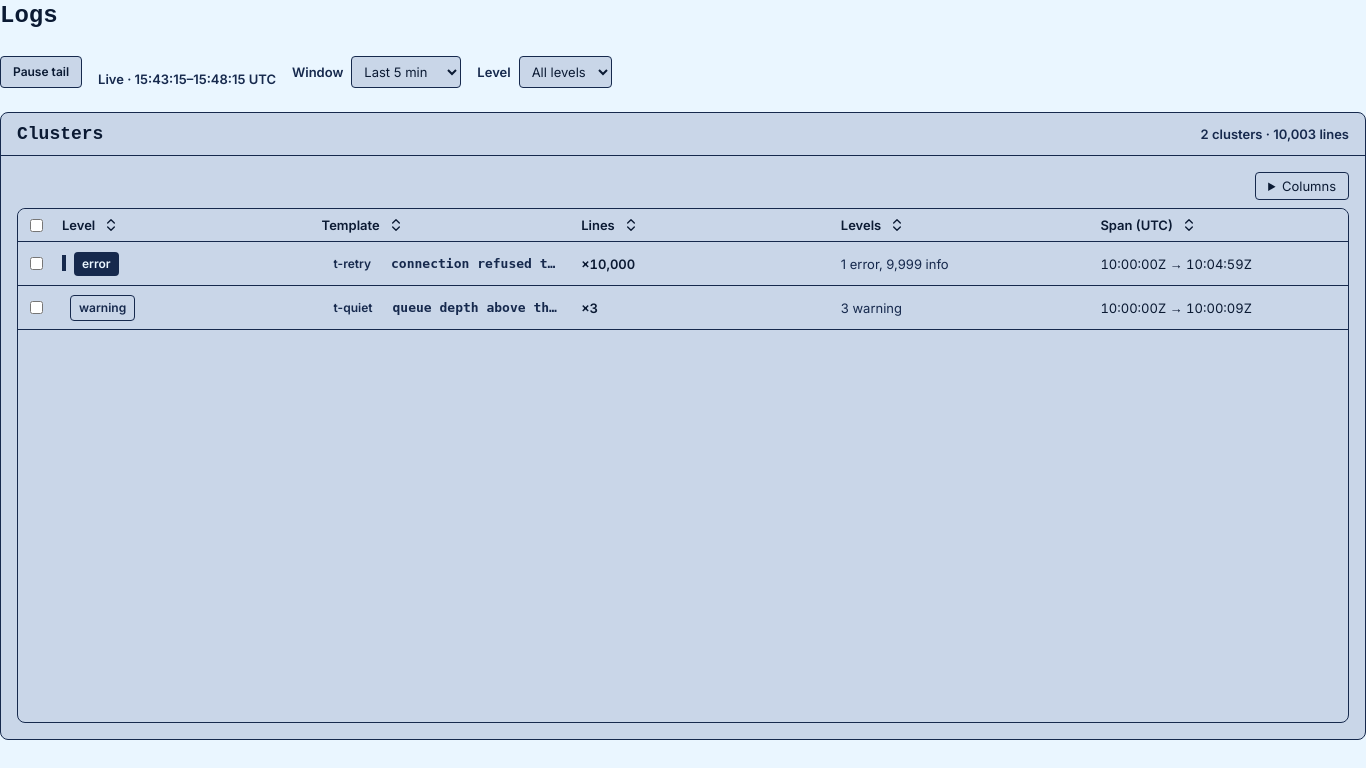
LogsPage › closes an expansion with the row, so the panel cannot outlive its row
The width and height of the screenshot is (1366, 768).
Click the button "t-retry" at (352, 264), box [322,248,383,280]
(page scrolled)
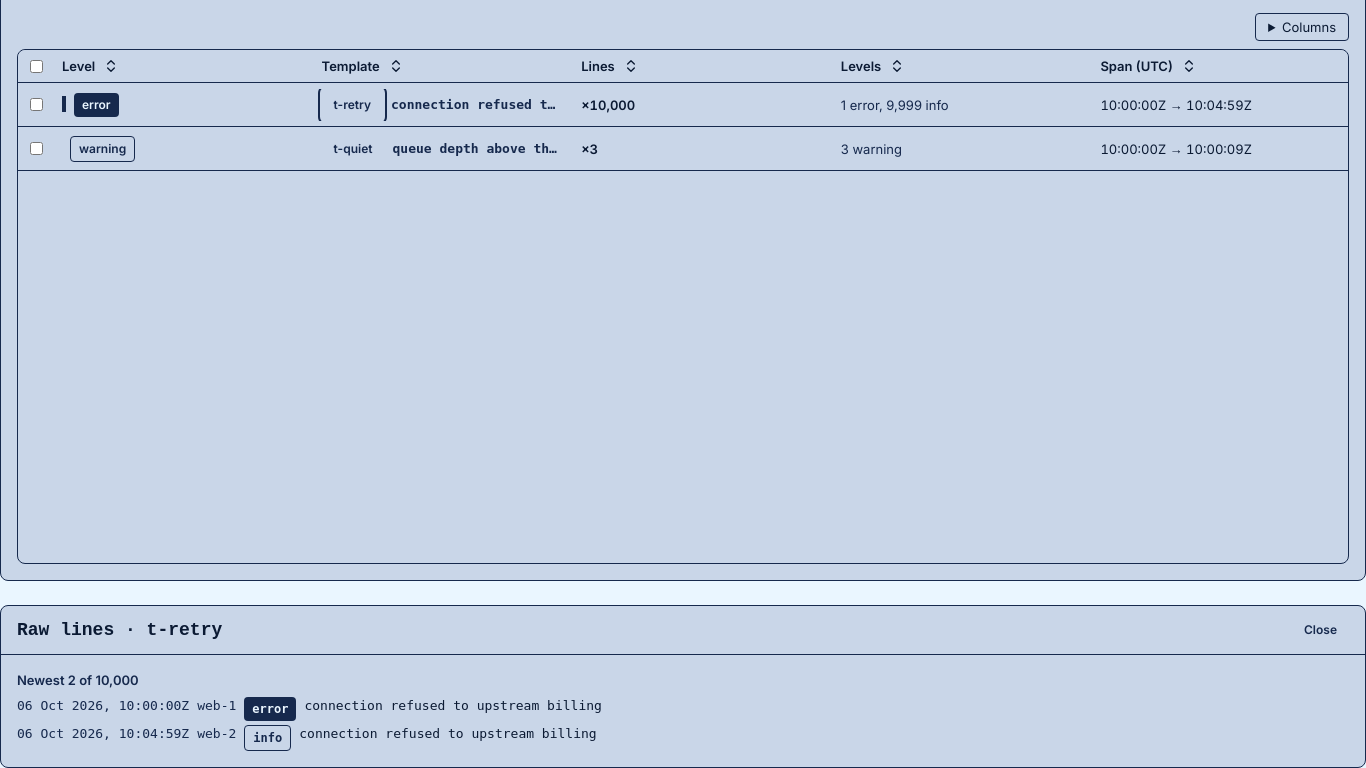
Expected: the text "Newest 2 of 10,000" is shown, [17,672,139,688]
Click the button "Close" at (1320, 630), box [1292,614,1349,646]
(page scrolled)
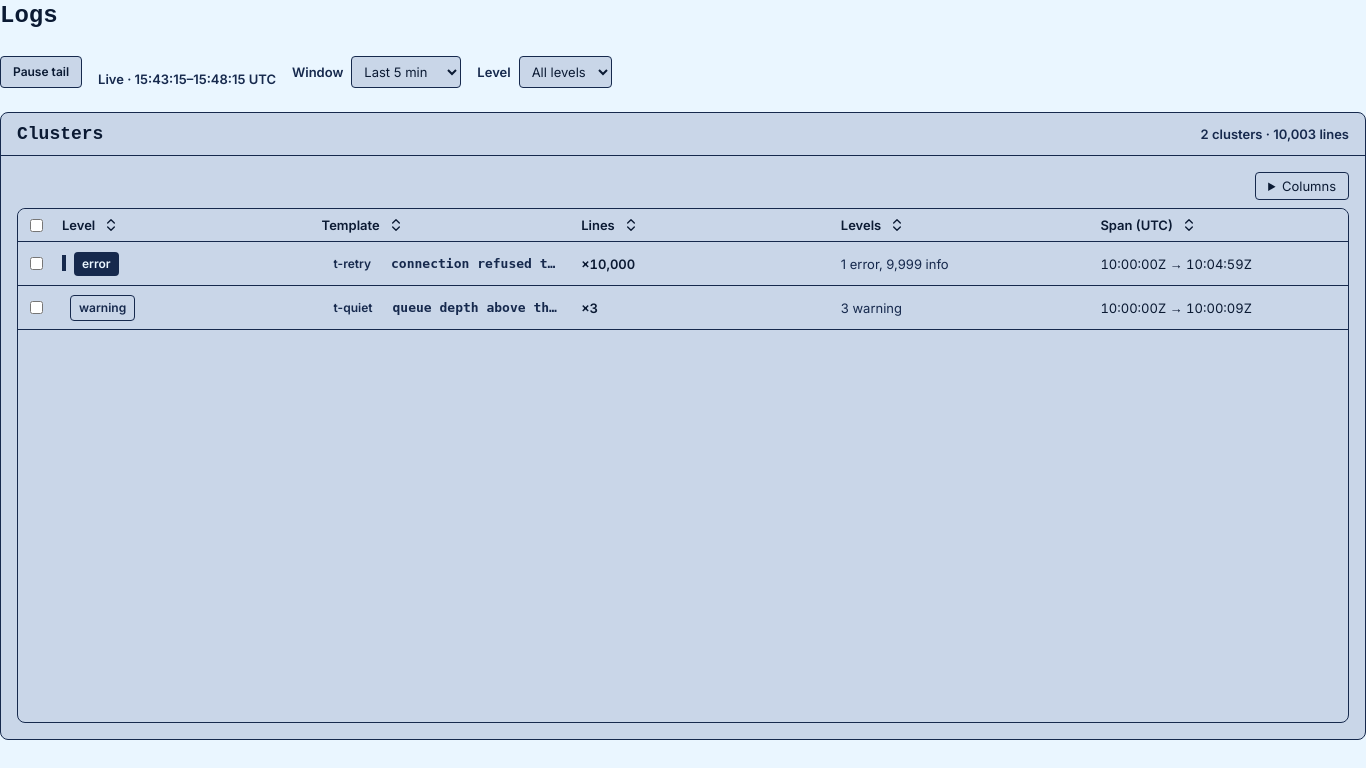
Expected: the heading "Raw lines" is gone
